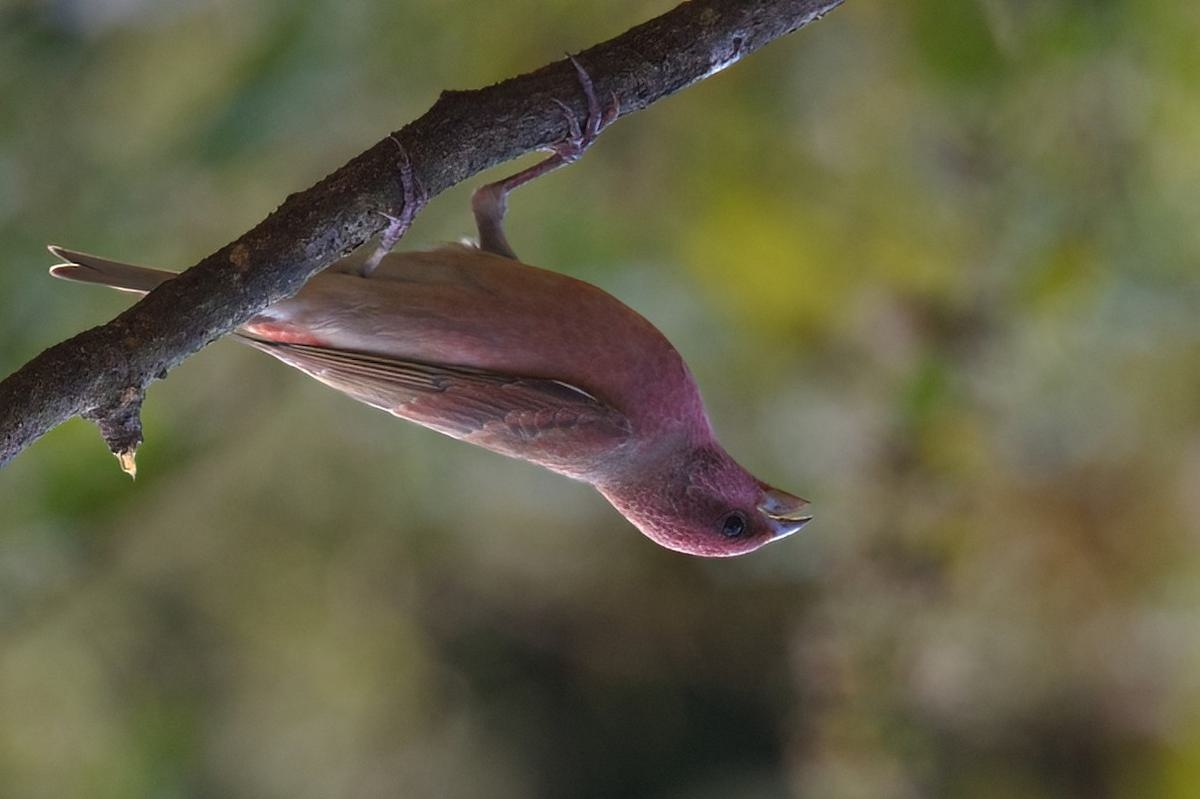rosefinch: (215, 195, 835, 564)
